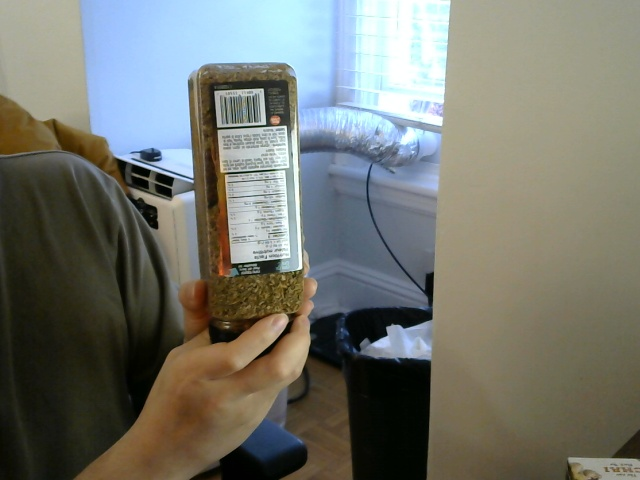Barcode: (218, 91, 263, 126)
